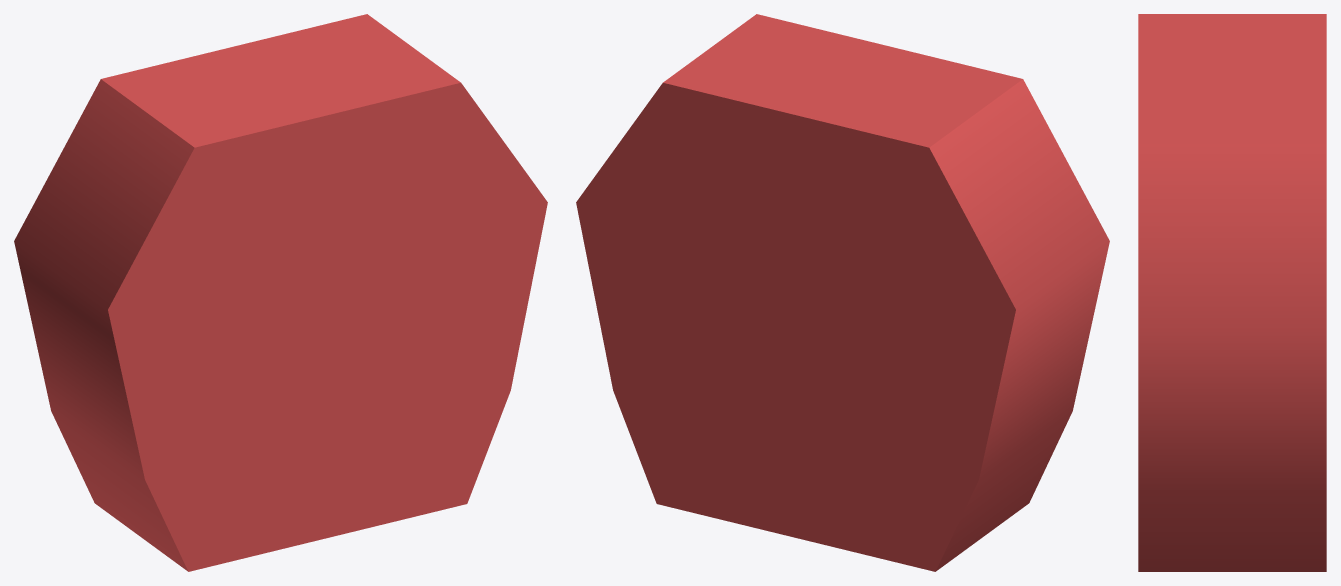
Rendered from Basic_Upper_Torso.FBX.
3 renders of one model, left to right at view 1: azimuth 30°, elevation 25°; view 2: azimuth 150°, elevation 25°; view 3: azimuth 270°, elevation 25°, orthographic.
Parts seen in each view (by area): view 1: Box002; view 2: Box002; view 3: Box002.
Part boxes in pixels (left/top/right/bottom): Box002: left=14, top=14, right=547, bottom=571; Box002: left=576, top=14, right=1109, bottom=571; Box002: left=1138, top=14, right=1326, bottom=571.
Bounding box in the file's own units: 17.89 × 16.42 × 6.61.
